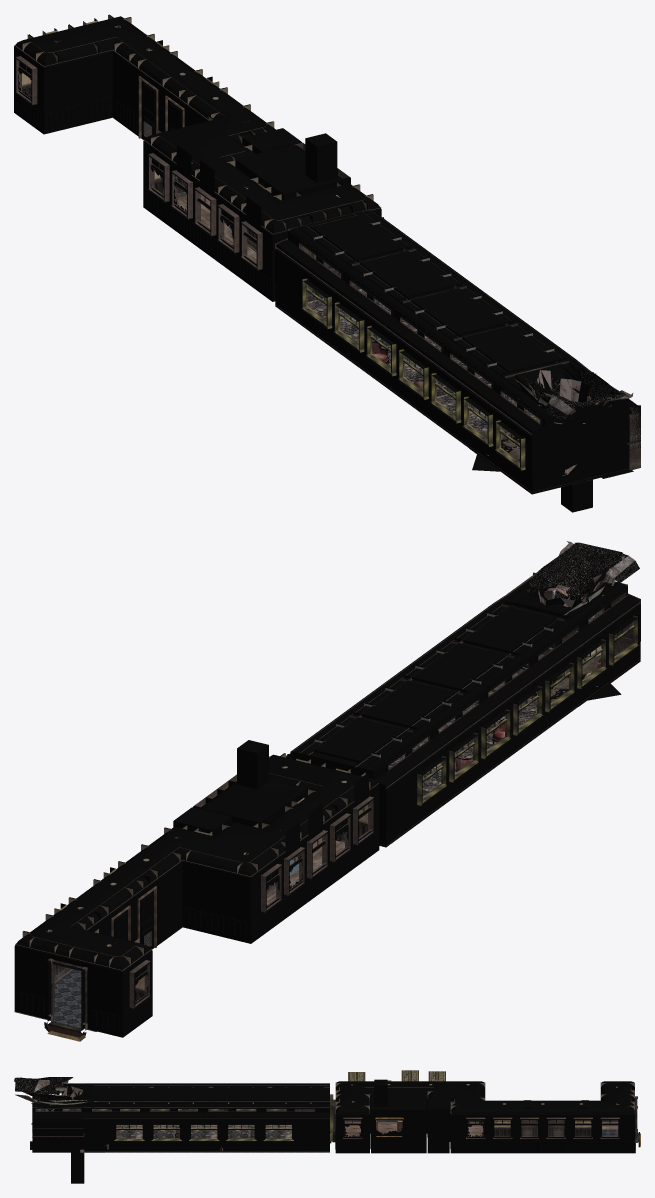
File: Train_Carriage_01.glb
3 renders of one model, top to bottom at view 1: azimuth 30°, elevation 25°; view 2: azimuth 150°, elevation 25°; view 3: azimuth 270°, elevation 25°, orthographic. The views are drawn at different scales.
Parts seen in each view (by area): view 1: Train_Carriage_01; view 2: Train_Carriage_01; view 3: Train_Carriage_01.
Part boxes in pixels (box(x1,y1,x2,y2)): Train_Carriage_01: box(14, 14, 640, 512); Train_Carriage_01: box(14, 541, 640, 1041); Train_Carriage_01: box(14, 1070, 640, 1183).
Bounding box in the file's own units: 48.03 × 58.1 × 329.
46 materials, 45 textured.
